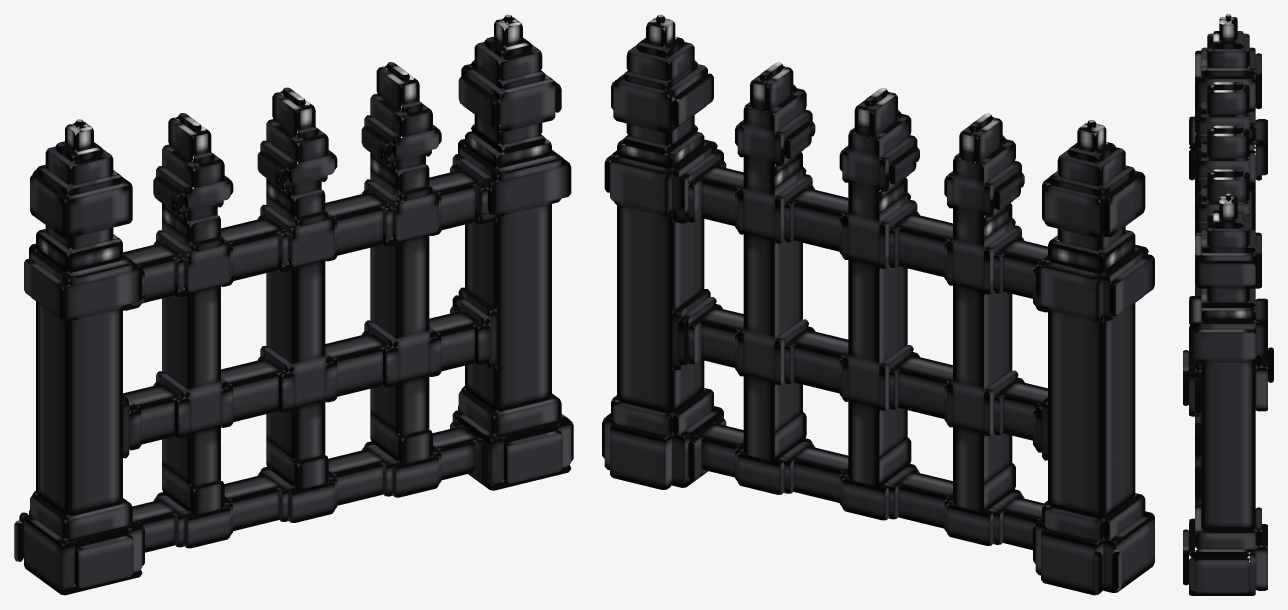
File: metal_fence.obj
3 views of the same model, side by side, from view 1: azimuth 30°, elevation 25°; view 2: azimuth 150°, elevation 25°; view 3: azimuth 270°, elevation 25° (orthographic). The views are drawn at different scales.
Bounding box in the file's own units: 85 × 70 × 15.
Materials: 1 (1 with a texture image).
